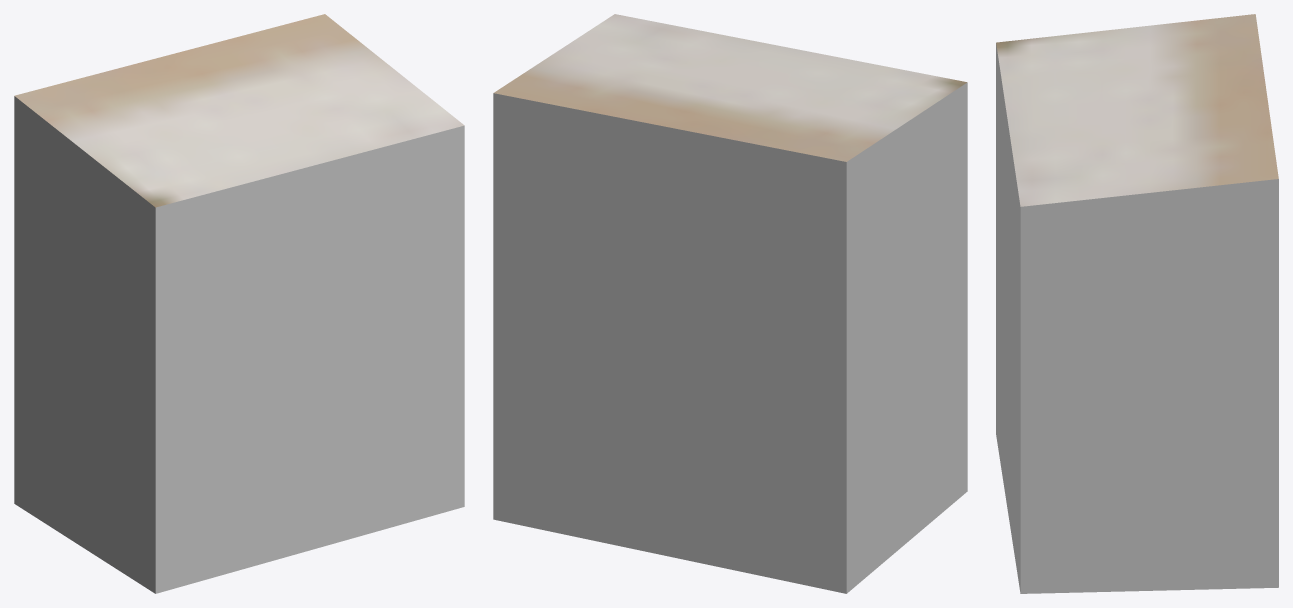
File: DEBW_0010007THYK.gltf
3 views of the same model, side by side, from view 1: azimuth 30°, elevation 25°; view 2: azimuth 150°, elevation 25°; view 3: azimuth 270°, elevation 25° (orthographic). The views are drawn at different scales.
Visible parts, largest first — view 1: Z_UP; view 2: Z_UP; view 3: Z_UP.
Part boxes in pixels (left/top/right/bottom): Z_UP: left=14, top=14, right=464, bottom=593; Z_UP: left=493, top=14, right=967, bottom=593; Z_UP: left=996, top=14, right=1278, bottom=593.
Bounding box in the file's own units: 3.22 × 3.75 × 2.32.
Materials: 2 (1 with a texture image).
